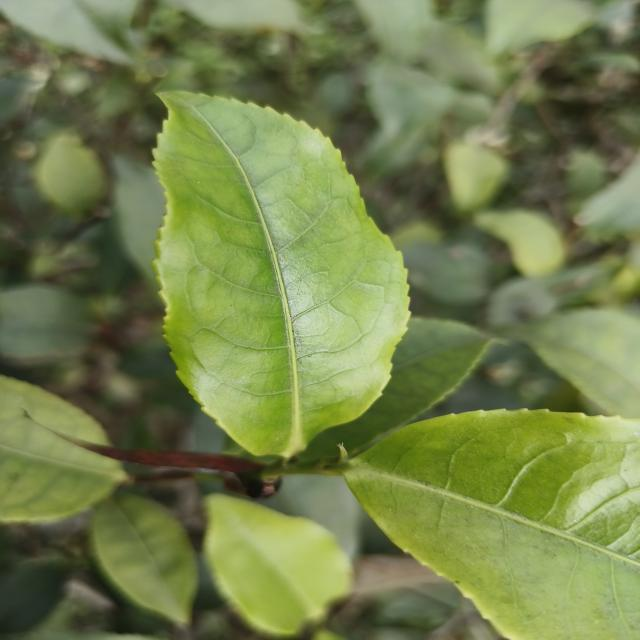Leaf: (154, 92, 409, 457), (345, 409, 640, 640), (302, 316, 491, 460), (204, 494, 352, 637), (0, 376, 127, 522), (90, 493, 197, 626), (510, 309, 640, 418), (0, 0, 137, 64), (0, 284, 92, 363), (113, 156, 166, 282), (474, 209, 565, 277), (34, 133, 105, 217), (485, 0, 594, 53), (402, 241, 490, 305), (444, 141, 508, 212)
